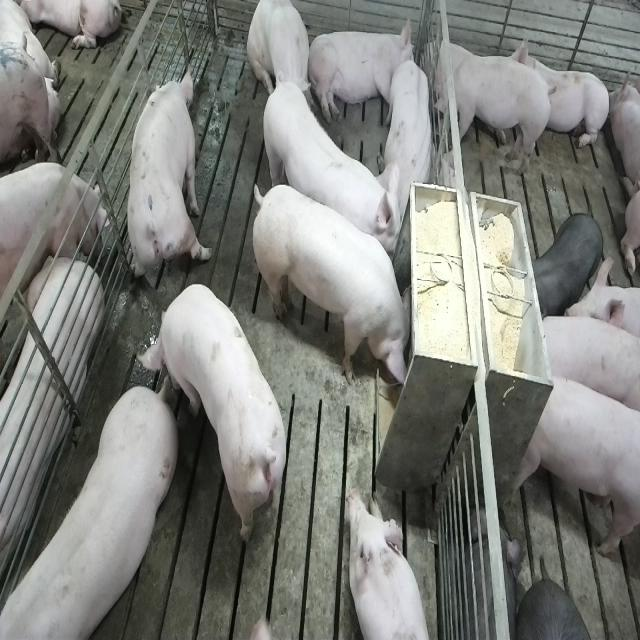Feeding: (255, 177, 420, 399)
Lateral_lying: (0, 245, 103, 590), (308, 20, 416, 127)
Sitting: (247, 1, 315, 116)
Standing: (0, 383, 175, 640), (141, 286, 292, 552), (506, 373, 638, 565), (258, 78, 394, 264), (125, 64, 210, 290), (427, 45, 554, 182), (0, 162, 107, 309), (534, 312, 638, 418), (528, 208, 603, 317)
Sternal_lying: (348, 486, 435, 640), (512, 31, 610, 154), (378, 54, 437, 239)
